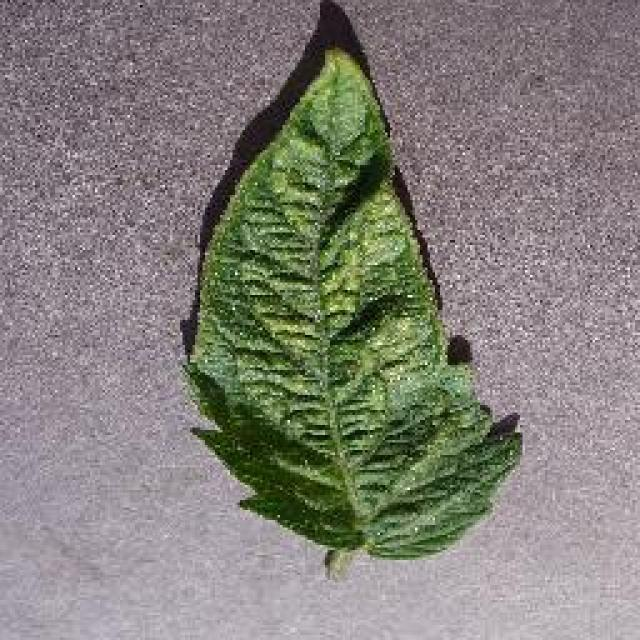Tomato Early blight leaf: (138, 45, 494, 555), (160, 48, 288, 307)
